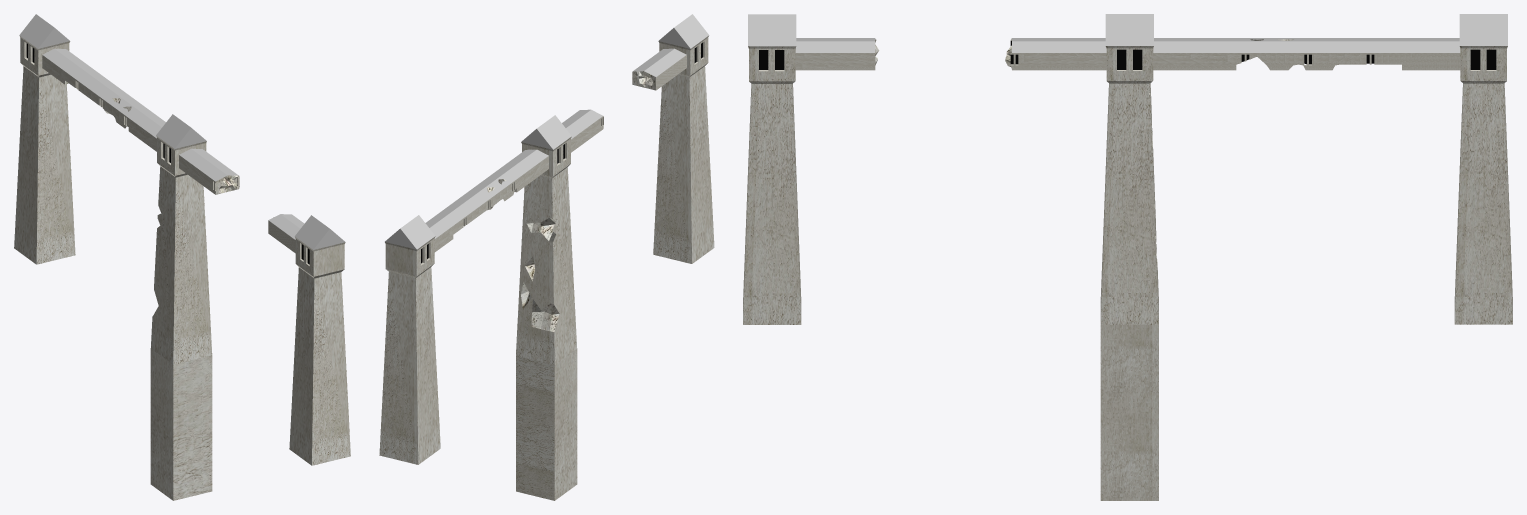
Rendered from broken boat brig.fbx.
3 renders of one model, left to right at view 1: azimuth 30°, elevation 25°; view 2: azimuth 150°, elevation 25°; view 3: azimuth 270°, elevation 25°, orthographic. The views are drawn at different scales.
Parts seen in each view (by area): view 1: Bridge; view 2: Bridge; view 3: Bridge.
Part boxes in pixels (box(x1,y1,x2,y2)): Bridge: box(14, 14, 350, 500); Bridge: box(379, 14, 714, 500); Bridge: box(743, 14, 1512, 500).
Size of the model in its own units: 499 by 4434 by 6513.
